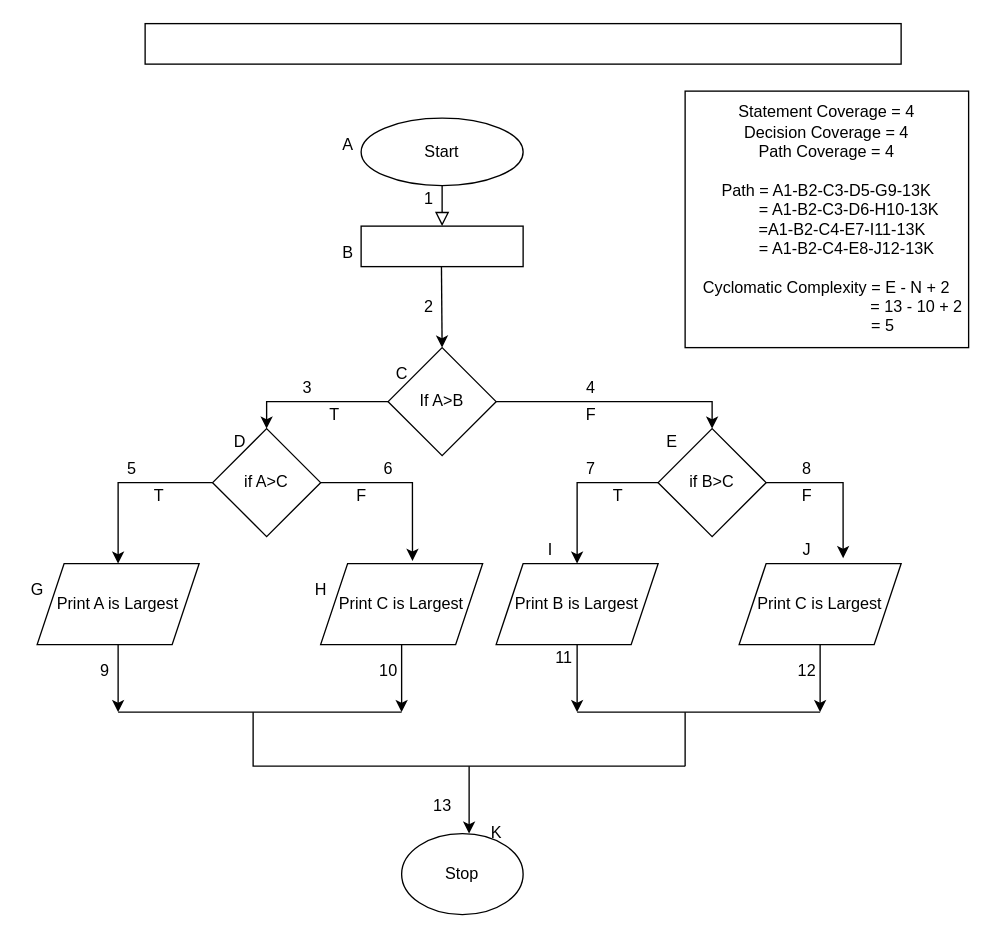
The diagram is 992 pixels wide and 938 high, and some of its shapes have lost their labels. Here are the shapes that lost their labels. From the top down, the centre of each, then its label:
At [522,43]: "Flowchart to find Largest of three numbers".
At [441,246]: "Read A, B, C".
